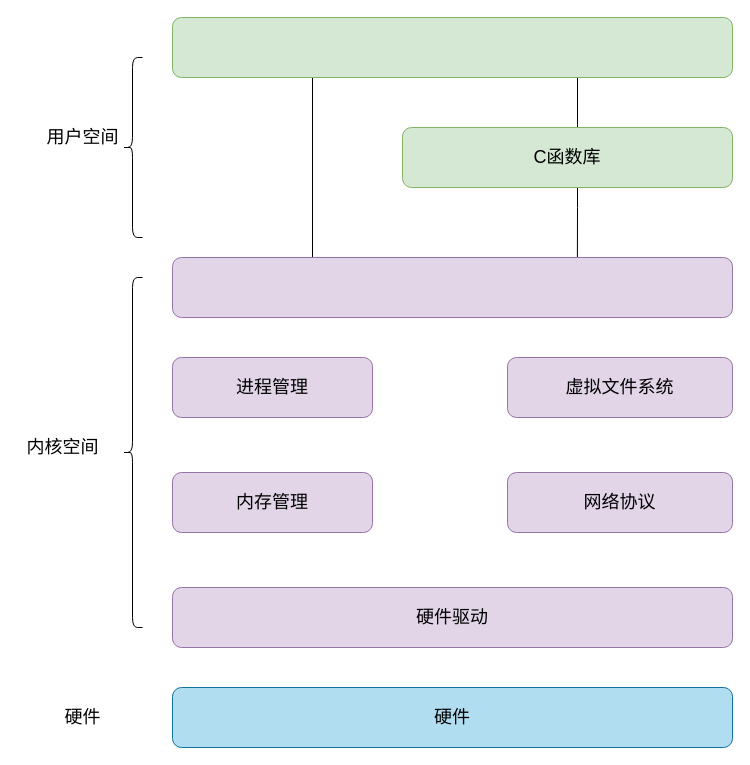
The diagram is 750 pixels wide and 765 high, and some of its shapes have lost their labels. Each missing label, with the centre of its shape:
应用程序: pixel 452 47
系统调用接口: pixel 452 287
